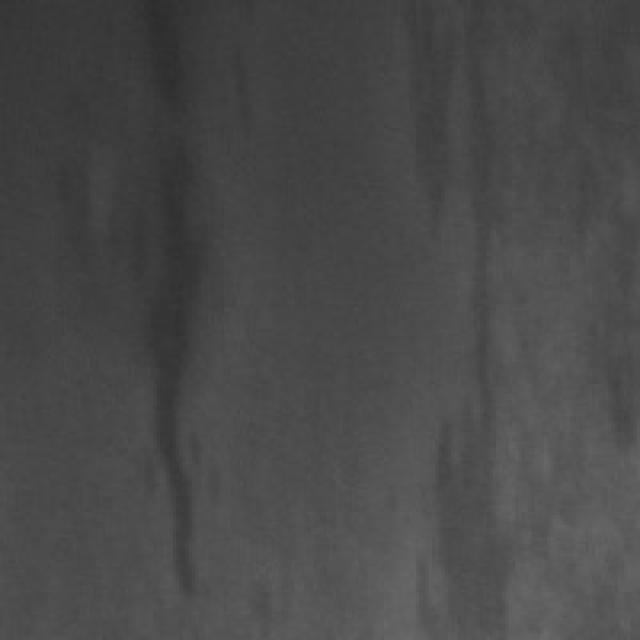inclusion: (407, 0, 519, 630), (109, 0, 221, 595), (554, 109, 640, 461)
